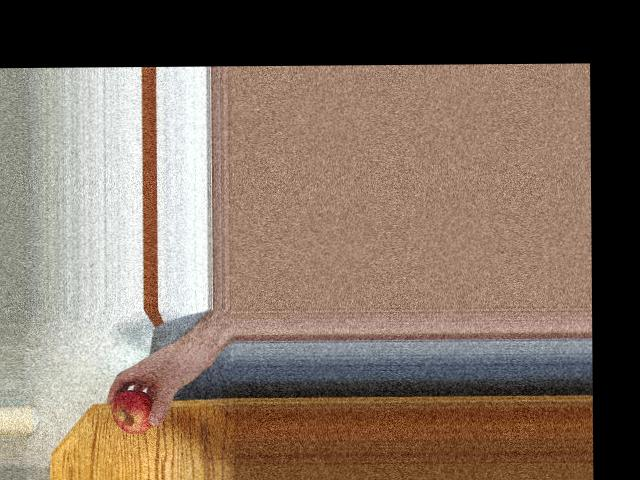apple: (111, 388, 160, 434)
